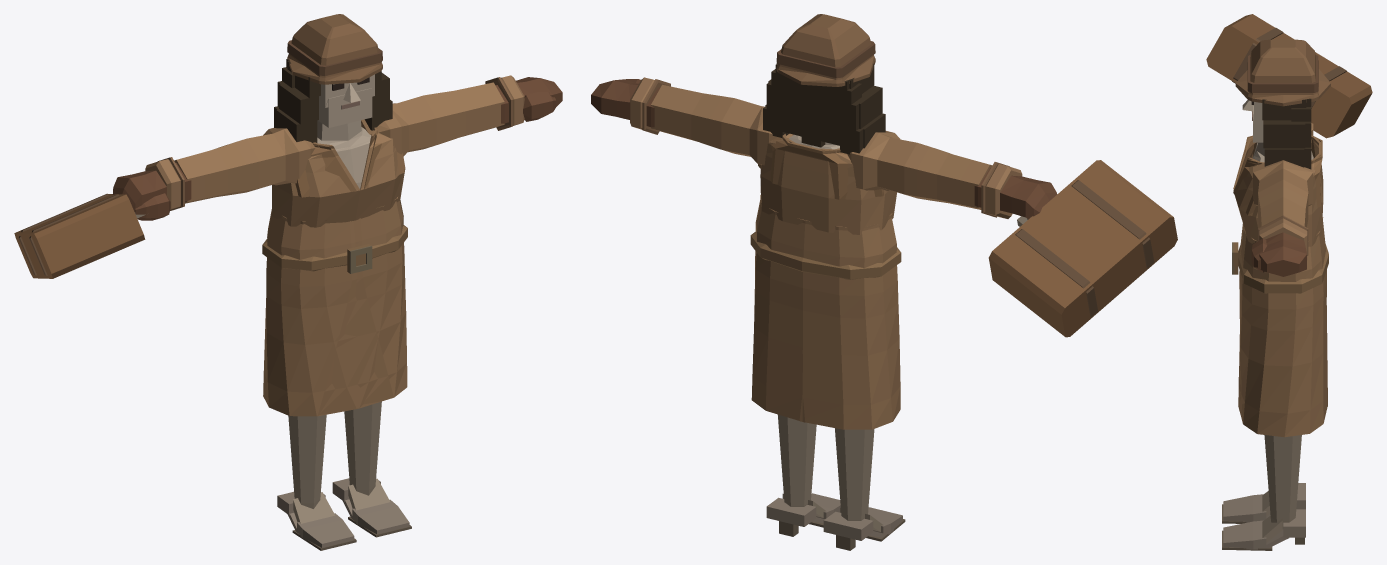
The model's file is passenger-ac425a.glb.
3 renders of one model, left to right at view 1: azimuth 30°, elevation 25°; view 2: azimuth 150°, elevation 25°; view 3: azimuth 270°, elevation 25°, orthographic. The views are drawn at different scales.
Parts seen in each view (by area): view 1: passenger-ac425a; view 2: passenger-ac425a; view 3: passenger-ac425a.
Boxes of the visible parts, x1,y1,x2,y2 form: passenger-ac425a: [14, 14, 562, 550]; passenger-ac425a: [591, 14, 1177, 550]; passenger-ac425a: [1206, 14, 1372, 550].
Size of the model in its own units: 2.02 by 1.79 by 0.5554.
